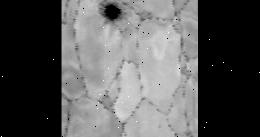good_void: (102, 1, 125, 22)
